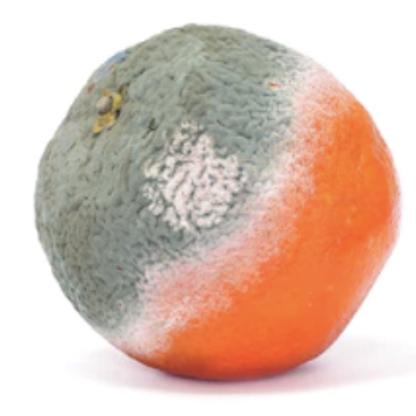rotten: (36, 23, 402, 381)
